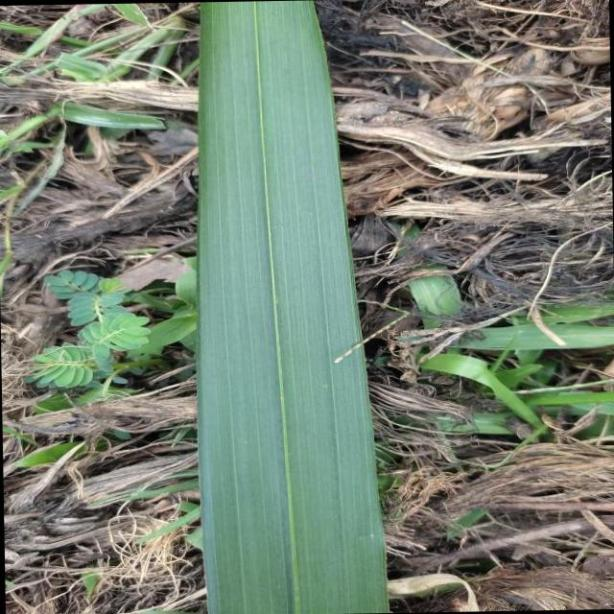Healthy: (197, 0, 391, 614)
